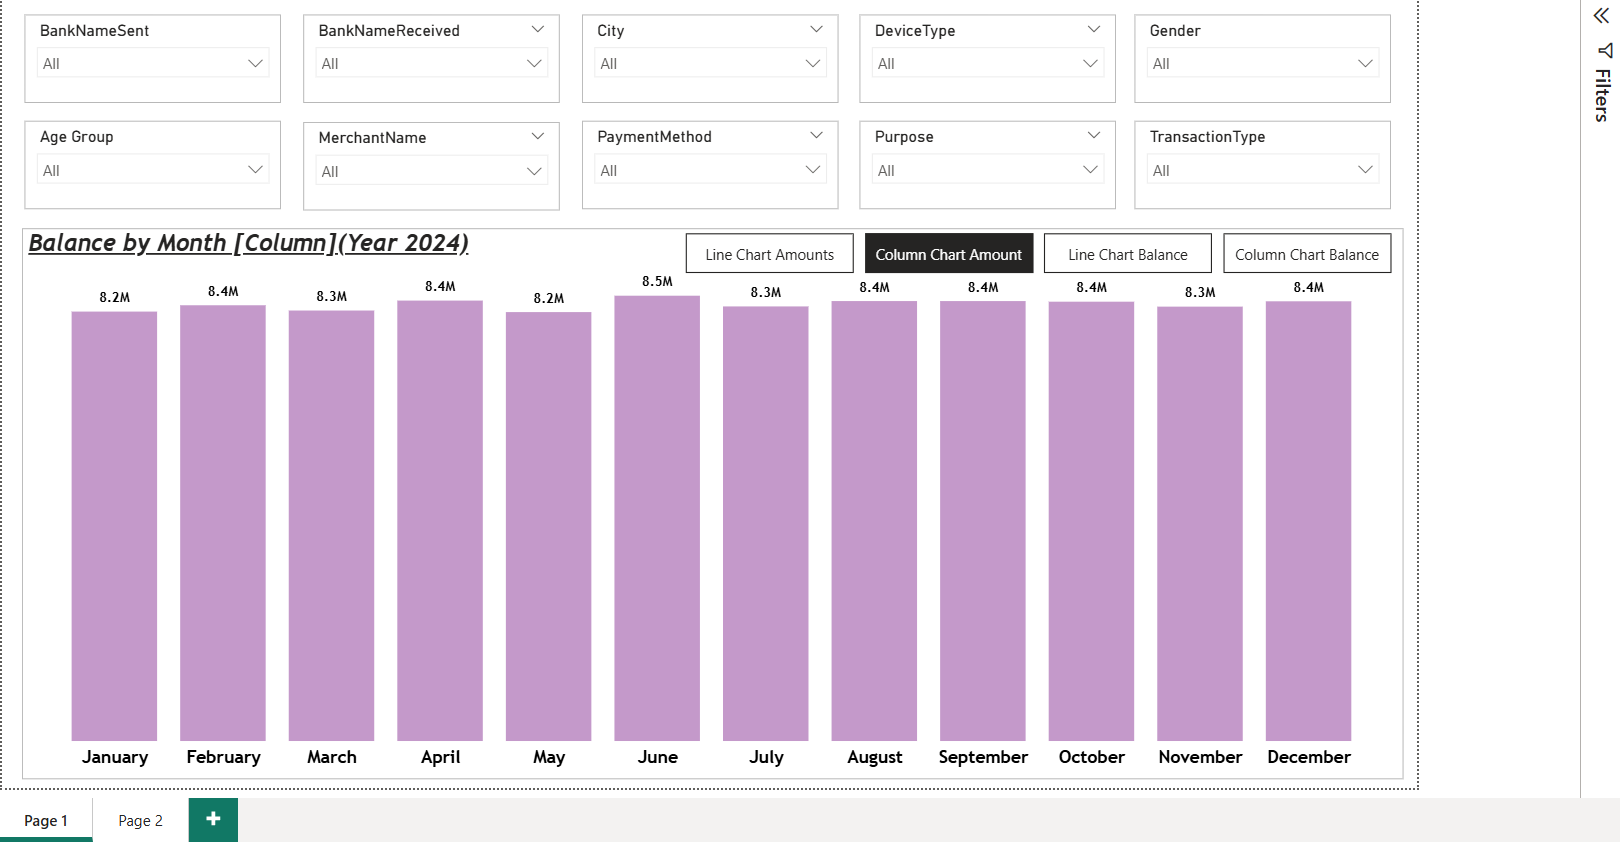

What the dashboard file says about the page in this screenshot:
{"tool":"powerbi","page":{"name":"Page 1","canvas":[1280,720],"ordinal":0},"visuals":[{"type":"slicer","fields":{"Values":["UPI Transactions.BankNameSent"]},"box":[20,20,232,80],"z":0},{"type":"slicer","fields":{"Values":["UPI Transactions.BankNameReceived"]},"box":[272,20.7,232,80.2],"z":1000},{"type":"slicer","fields":{"Values":["UPI Transactions.City"]},"box":[524.4,20,232,80.2],"z":2000},{"type":"slicer","fields":{"Values":["UPI Transactions.DeviceType"]},"box":[776,20,232,80.2],"z":3000},{"type":"slicer","fields":{"Values":["UPI Transactions.Gender"]},"box":[1024.2,20,232,80.2],"z":4000},{"type":"slicer","fields":{"Values":["UPI Transactions.Age Group"]},"box":[20,116.5,232,80],"z":5000},{"type":"slicer","fields":{"Values":["UPI Transactions.MerchantName"]},"box":[272,117.2,232,80.2],"z":6000},{"type":"slicer","fields":{"Values":["UPI Transactions.PaymentMethod"]},"box":[524.2,116.5,232,80.2],"z":7000},{"type":"slicer","fields":{"Values":["UPI Transactions.Purpose"]},"box":[776,116.5,232,80.2],"z":8000},{"type":"slicer","fields":{"Values":["UPI Transactions.TransactionType"]},"box":[1024,116.5,232,80.2],"z":9000},{"type":"columnChart","title":"Balance by Month [Column](Year 2024)","fields":{"Category":["UPI Transactions.TransactionDate.Variation.Date Hierarchy.Month"],"Y":["Sum(UPI Transactions.RemainingBalance)"]},"box":[17.8,214,1249.3,498.2],"z":13000},{"type":"bookmarkNavigator","box":[618,218.2,639.3,36.2],"z":14500}]}

Visuals, with their boxes on the page's 1280x720 design canvas (x1, y1, x2, y2). These are canvas units, not pixel positions in the 1620x842 screenshot, which may show the page scaled, cropped or inside an application window:
slicer - UPI Transactions.BankNameSent: 20,20,252,100
slicer - UPI Transactions.BankNameReceived: 272,21,504,101
slicer - UPI Transactions.City: 524,20,756,100
slicer - UPI Transactions.DeviceType: 776,20,1008,100
slicer - UPI Transactions.Gender: 1024,20,1256,100
slicer - UPI Transactions.Age Group: 20,116,252,196
slicer - UPI Transactions.MerchantName: 272,117,504,197
slicer - UPI Transactions.PaymentMethod: 524,116,756,197
slicer - UPI Transactions.Purpose: 776,116,1008,197
slicer - UPI Transactions.TransactionType: 1024,116,1256,197
"Balance by Month [Column](Year 2024)" columnChart: 18,214,1267,712
bookmarkNavigator: 618,218,1257,254
